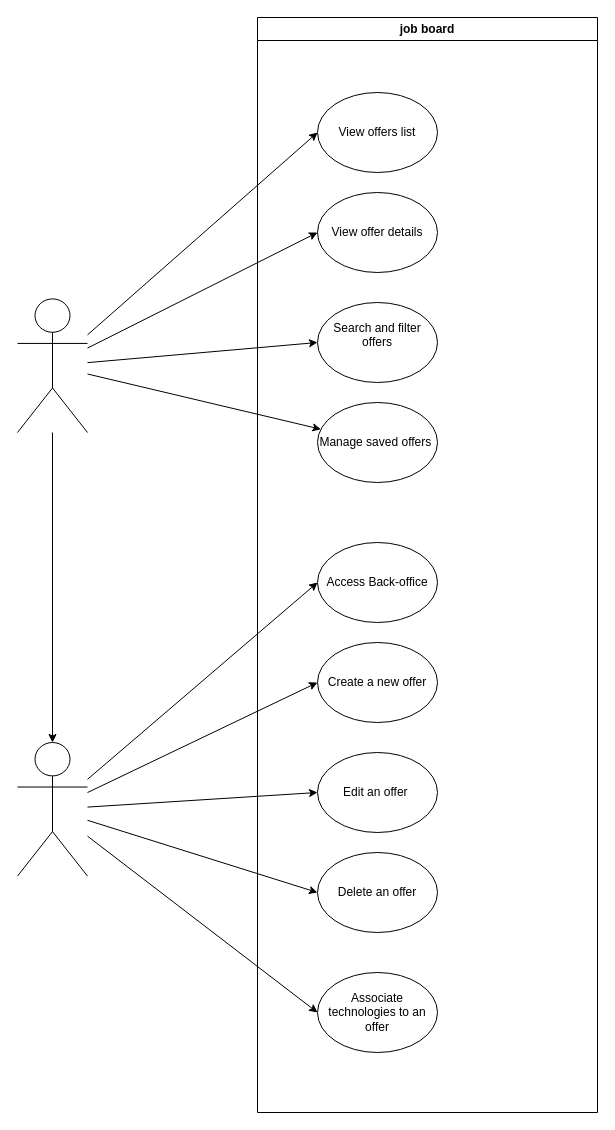
Some shapes in this 615 by 1130 pixel diagram are drawn without their labels. The shapes that lost their labels are listed below. From the top down, each one's centre as x and y in pixels, then its label:
pixel 52 365: user
pixel 52 809: admin
